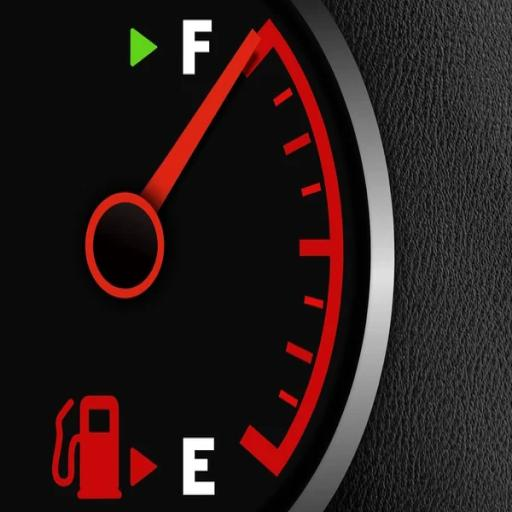empty: (179, 426, 221, 510)
fuel_icon: (48, 384, 123, 507)
full: (175, 11, 217, 82)
guage_area: (4, 2, 418, 512)
needle_center: (84, 178, 169, 309)
needle_tip: (234, 26, 268, 63)
